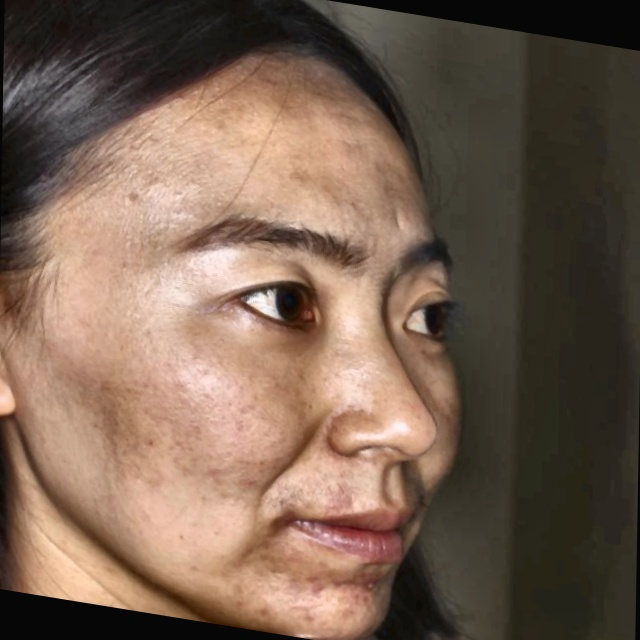comedone: (301, 569, 330, 608), (245, 597, 274, 623), (332, 599, 356, 628), (332, 570, 350, 601), (361, 571, 380, 596)
